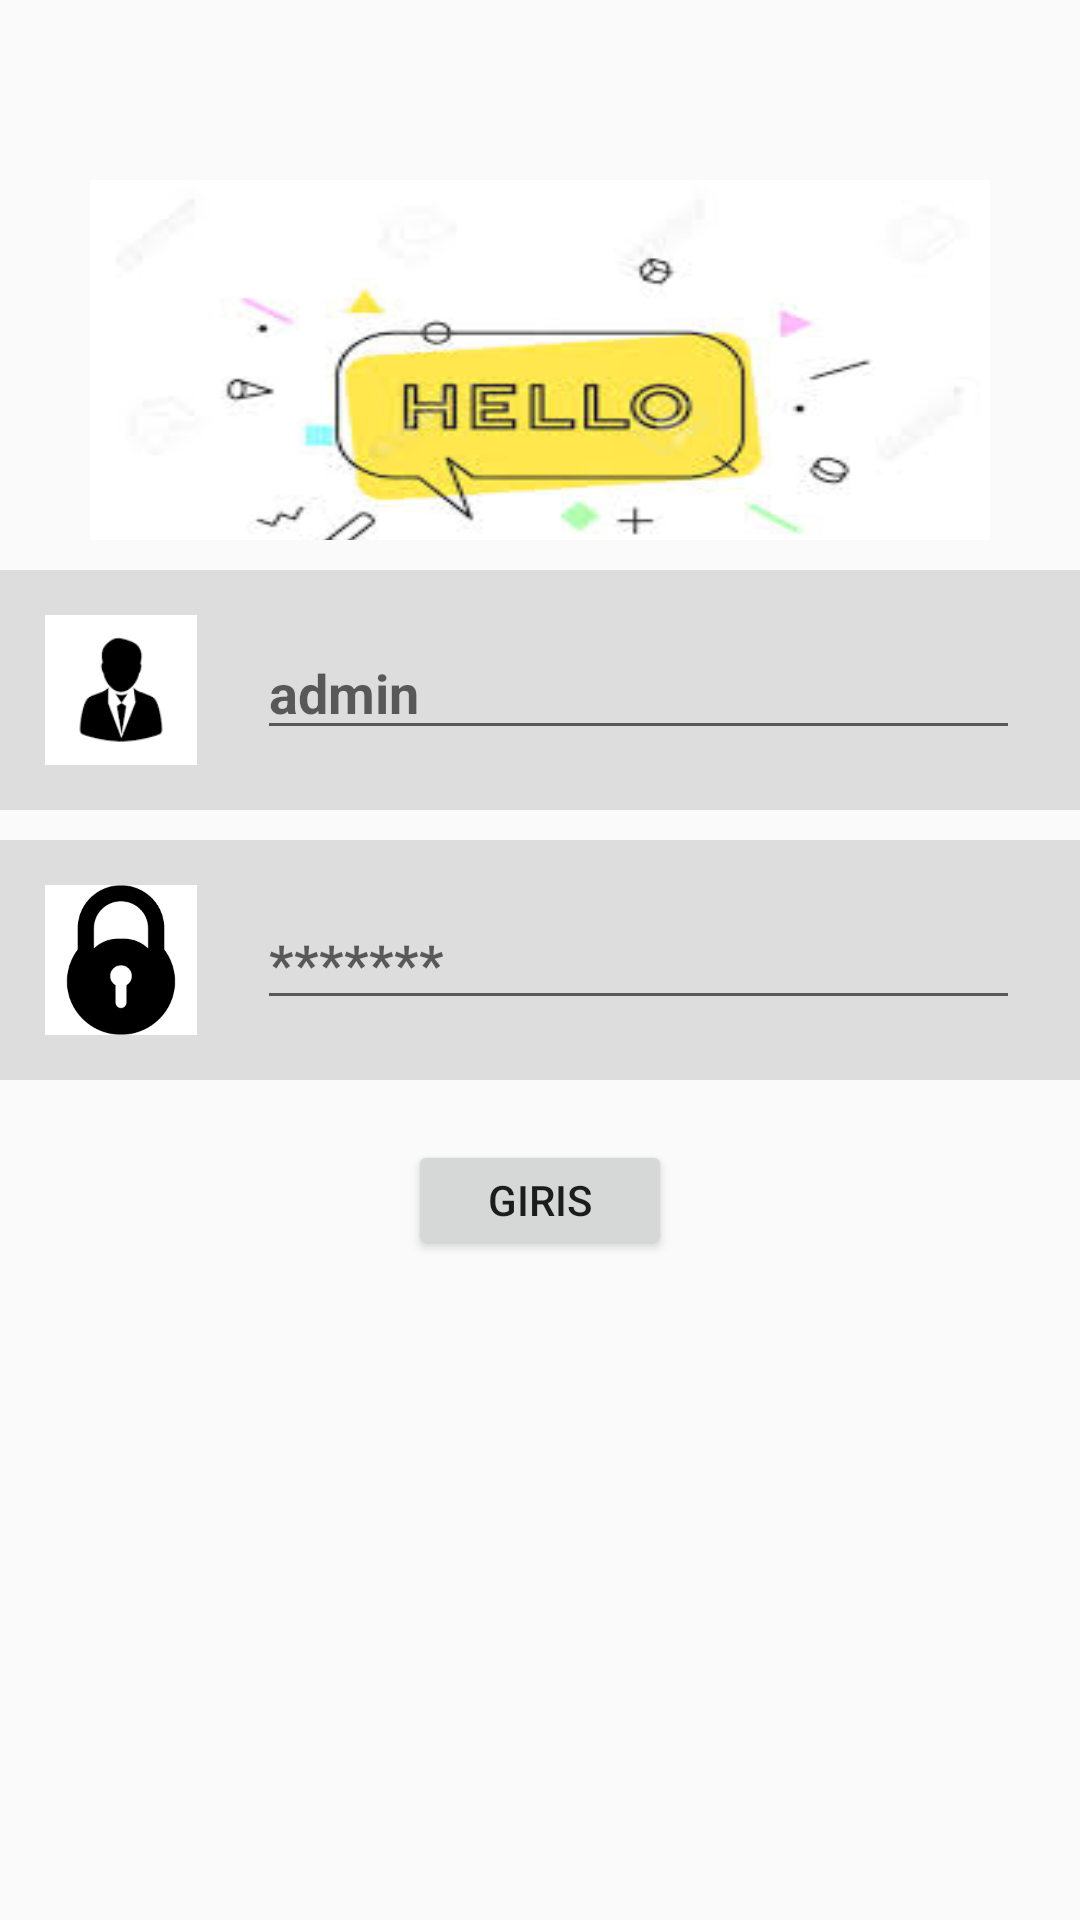

Where icons sit on this 1080px x 1920px app screen, as bbox=(x1, y1, x2, y2):
foto: bbox=(45, 615, 197, 765)
kilit: bbox=(45, 885, 197, 1035)
